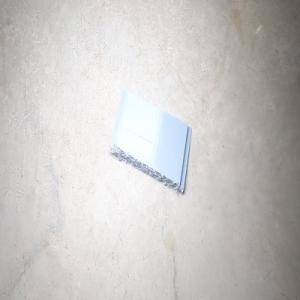PlasticPart: (108, 88, 192, 193)
